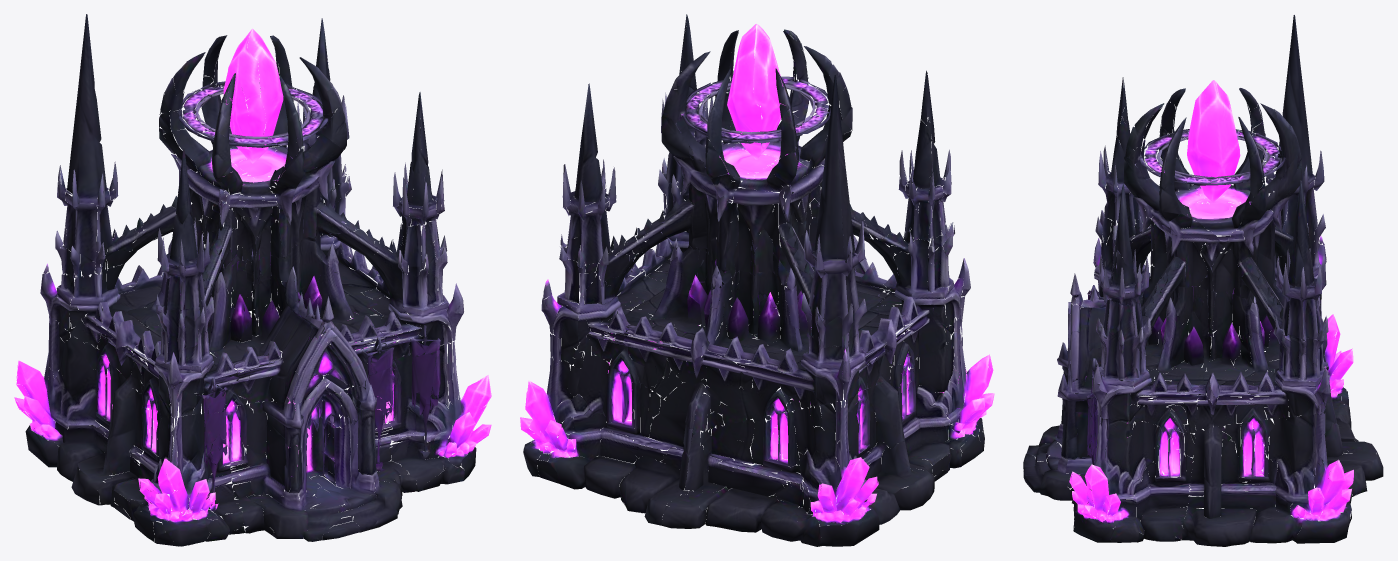
The model's file is tripo_castle_demon.glb.
3 views of the same model, side by side, from view 1: azimuth 30°, elevation 25°; view 2: azimuth 150°, elevation 25°; view 3: azimuth 270°, elevation 25° (orthographic). The views are drawn at different scales.
Parts seen in each view (by area): view 1: Tripo_Castle_Demon; view 2: Tripo_Castle_Demon; view 3: Tripo_Castle_Demon.
Part boxes in pixels (bbox=[...]): Tripo_Castle_Demon: bbox=[14, 14, 491, 546]; Tripo_Castle_Demon: bbox=[520, 14, 994, 546]; Tripo_Castle_Demon: bbox=[1023, 15, 1383, 546].
Size of the model in its own units: 12.6 by 15.37 by 12.44.
Materials: 1 (1 with a texture image).
